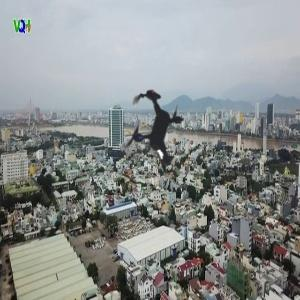drone: (87, 65, 221, 199)
